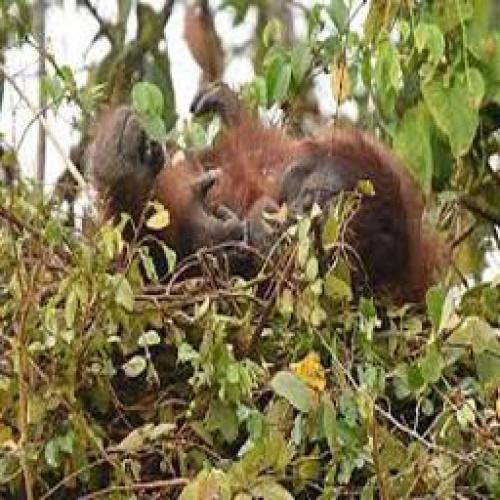orangutan-endangered: (93, 84, 430, 345)
